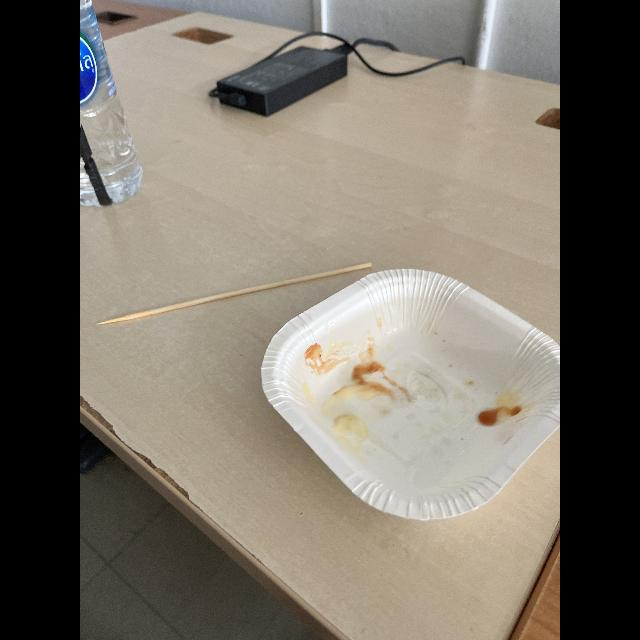cardboard_bowl: (255, 264, 560, 524)
stick: (97, 258, 376, 322)
